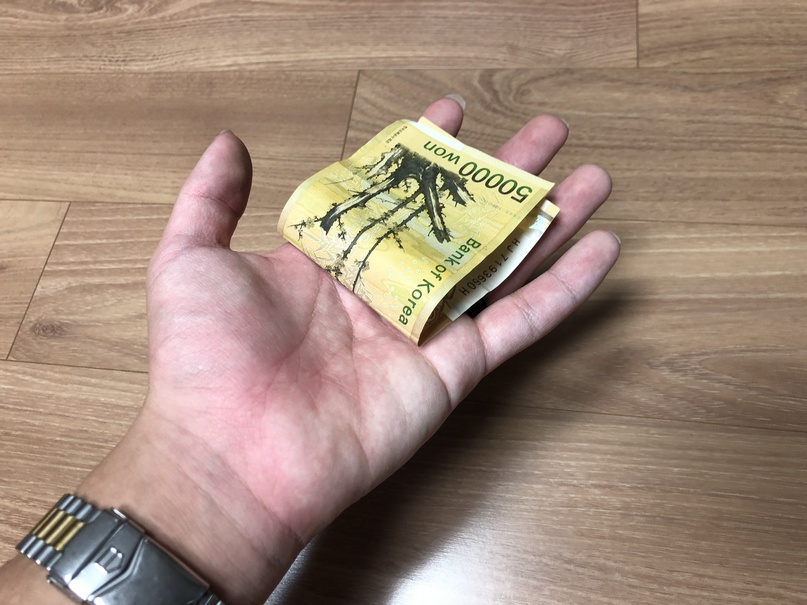50000won: (278, 116, 560, 347)
